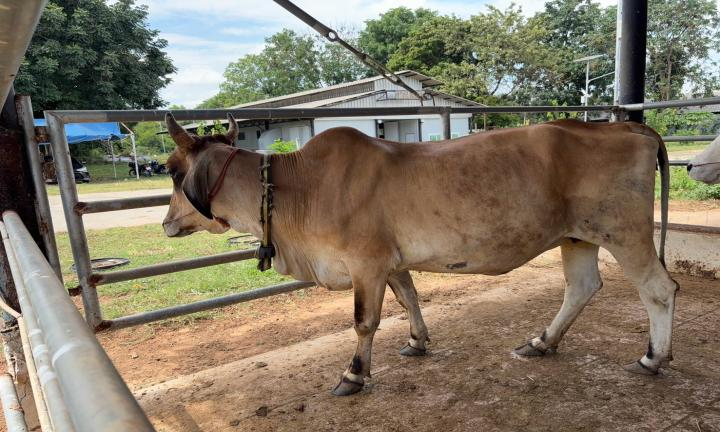Brahman: (163, 113, 677, 395)
